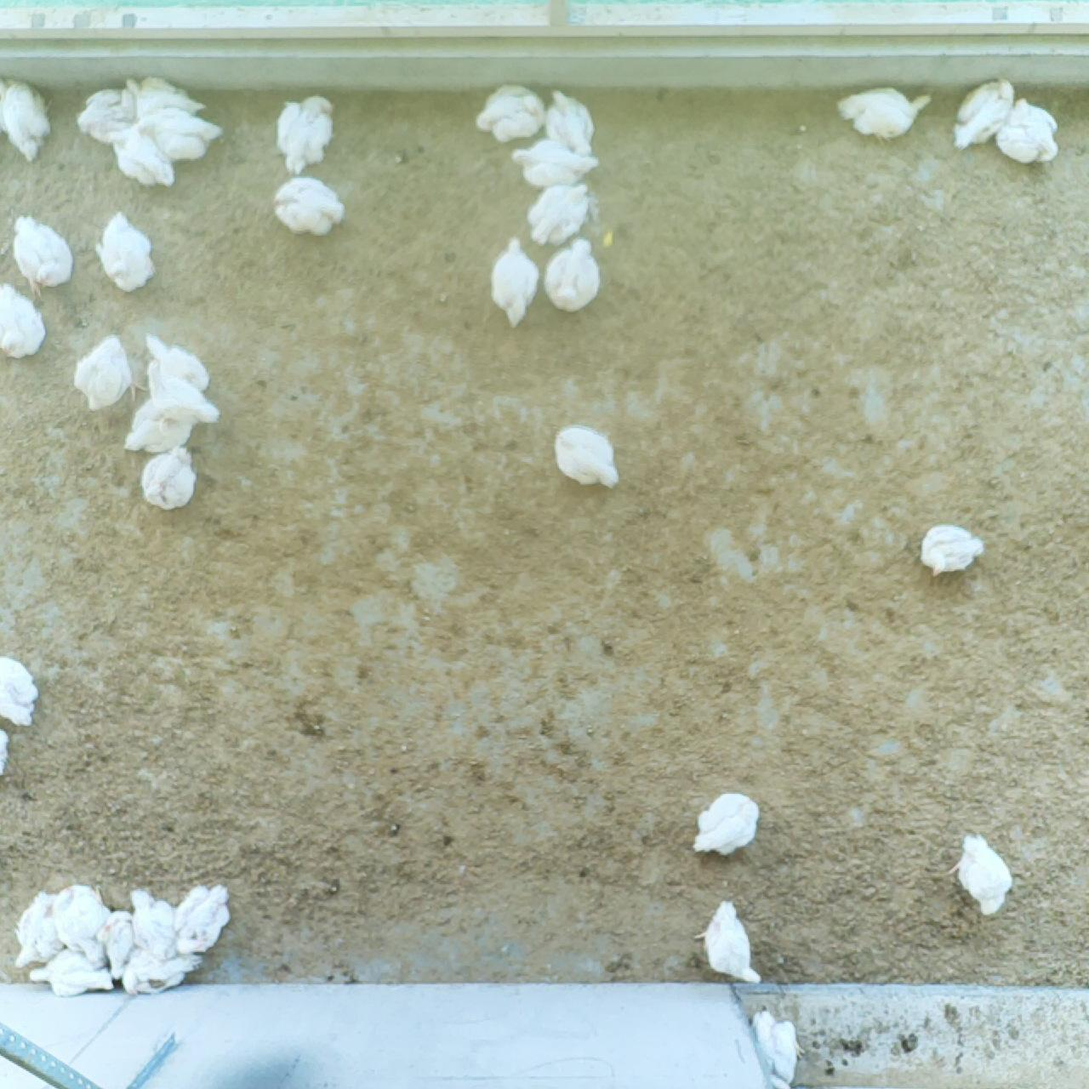chicken: (689, 891, 761, 984), (945, 822, 1014, 919), (835, 81, 932, 144), (684, 786, 762, 860), (739, 1001, 804, 1089), (72, 333, 145, 410), (10, 215, 75, 298), (949, 78, 1018, 156), (511, 135, 601, 194), (92, 208, 156, 290), (10, 881, 67, 973), (164, 879, 232, 956), (540, 234, 605, 314), (549, 421, 623, 491), (271, 176, 353, 239), (993, 95, 1064, 167), (142, 357, 219, 423), (120, 939, 203, 1000), (24, 945, 114, 1001), (492, 235, 546, 328), (131, 106, 222, 160), (275, 92, 335, 173), (51, 879, 104, 967), (525, 181, 594, 246), (0, 79, 54, 159), (916, 522, 990, 580), (124, 397, 192, 460), (144, 328, 212, 390), (105, 129, 175, 189), (474, 86, 544, 144), (124, 888, 177, 964), (74, 81, 140, 140), (124, 71, 203, 119), (0, 280, 46, 361), (141, 446, 196, 513), (542, 89, 597, 152), (98, 908, 144, 982), (0, 653, 37, 733)
